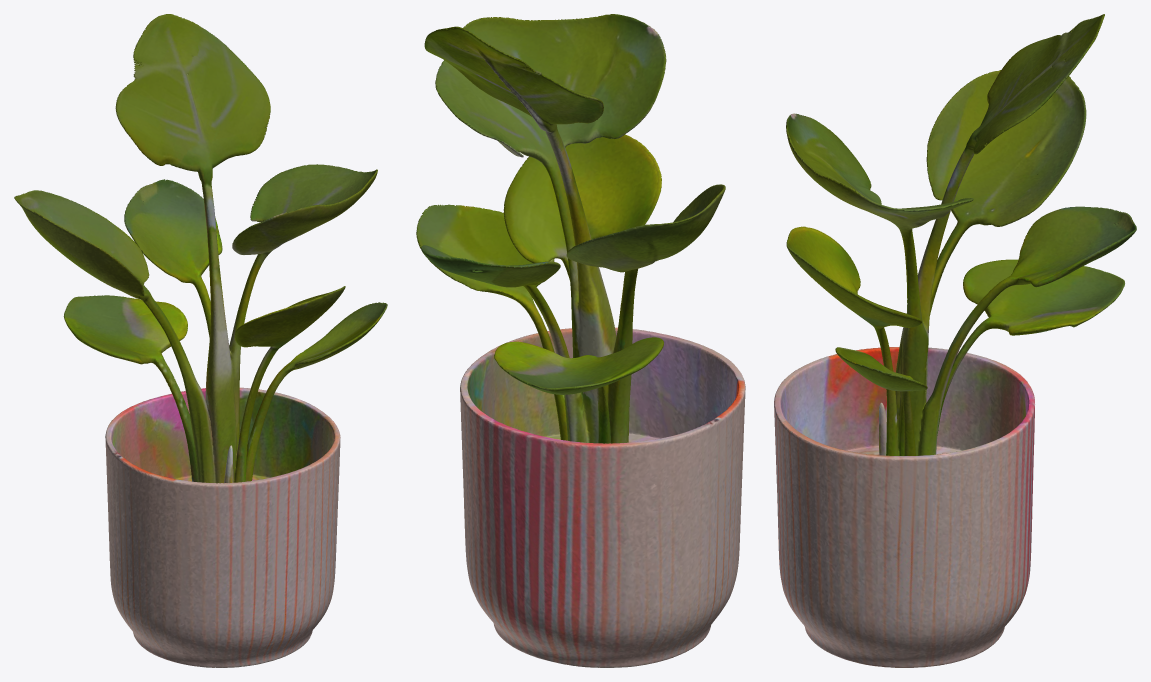
The model's file is contemporary_potted_succulent_decor_3d_prop.glb.
3 renders of one model, left to right at view 1: azimuth 30°, elevation 25°; view 2: azimuth 150°, elevation 25°; view 3: azimuth 270°, elevation 25°, orthographic. The views are drawn at different scales.
Visible parts, largest first — view 1: tripo_node_17c279ac; view 2: tripo_node_17c279ac; view 3: tripo_node_17c279ac.
Part boxes in pixels (left/top/right/bottom): tripo_node_17c279ac: left=14, top=14, right=387, bottom=667; tripo_node_17c279ac: left=416, top=14, right=745, bottom=667; tripo_node_17c279ac: left=774, top=14, right=1136, bottom=667.
Size of the model in its own units: 0.5685 by 1 by 0.5263.
1 material, 1 textured.
